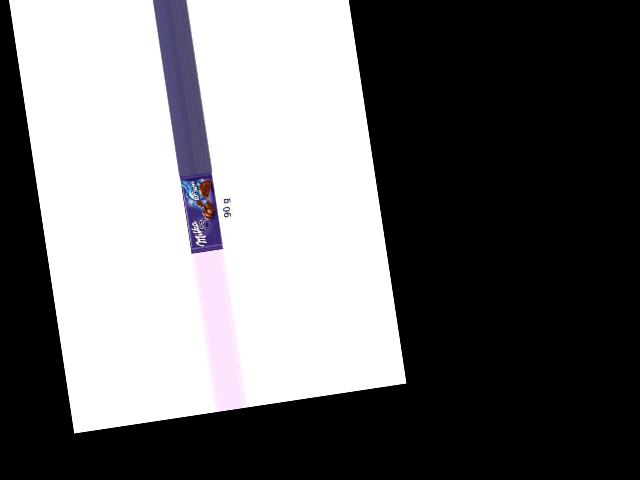chocolate: (179, 171, 222, 252)
